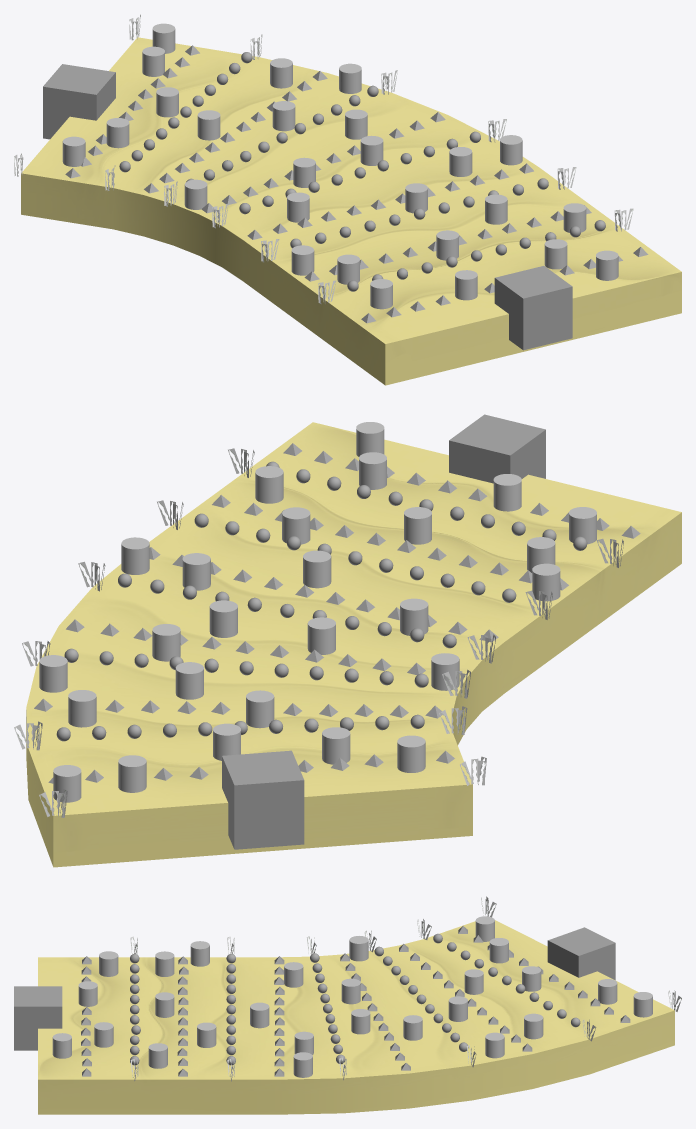
The model's file is assets009_Streckenteil_links002.fbx.
3 views of the same model, one above another, from view 1: azimuth 30°, elevation 25°; view 2: azimuth 150°, elevation 25°; view 3: azimuth 270°, elevation 25° (orthographic). The views are drawn at different scales.
Visible parts, largest first — view 1: streckenteil_linkskurve_geo2, a (×12), b (×10), startpoint, endpoint, c (×4); view 2: streckenteil_linkskurve_geo2, a (×12), b (×10), endpoint, startpoint, c (×4); view 3: streckenteil_linkskurve_geo2, a (×12), b (×10), endpoint, startpoint, c (×4).
Boxes of the visible parts, x1,y1,x2,y2 form: streckenteil_linkskurve_geo2: [21, 37, 681, 385]; a (×12): [106, 58, 618, 309]; b (×10): [156, 63, 586, 284]; startpoint: [494, 266, 572, 350]; endpoint: [43, 64, 115, 139]; c (×4): [62, 23, 367, 166]; streckenteil_linkskurve_geo2: [26, 422, 681, 867]; a (×12): [68, 422, 596, 764]; b (×10): [39, 466, 555, 760]; endpoint: [222, 750, 304, 849]; startpoint: [449, 414, 545, 483]; c (×4): [53, 624, 425, 802]; streckenteil_linkskurve_geo2: [38, 920, 674, 1114]; a (×12): [52, 938, 543, 1077]; b (×10): [148, 936, 541, 1068]; endpoint: [547, 927, 615, 980]; startpoint: [14, 986, 62, 1050]; c (×4): [403, 916, 652, 1040].
Bounding box in the file's own units: 41.81 × 6.5 × 69.18.
